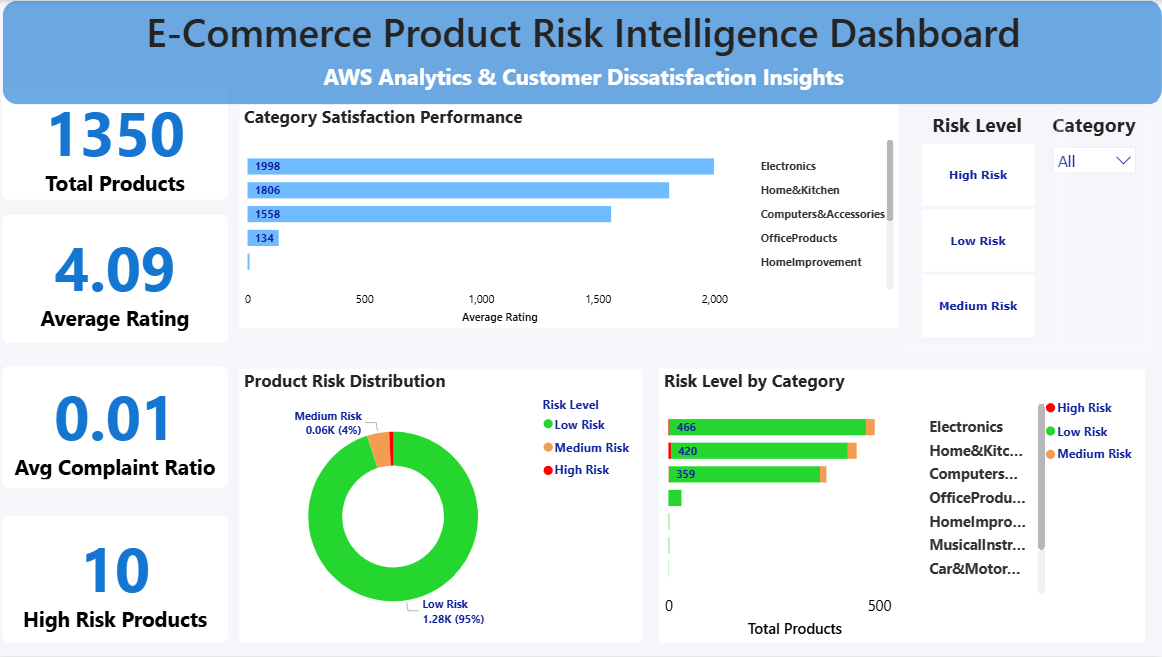

This screenshot's page, from the dashboard's own definition file:
{"tool":"powerbi","page":{"name":"Pure Insights","canvas":[1280,720],"ordinal":0},"visuals":[{"type":"card","fields":{"Values":["Amazon_final_analysis.Total Products"]},"box":[5,96.7,248.3,123.3],"z":0},{"type":"textbox","title":"E-Commerce Product Risk Intelligence Dashboard","box":[5,0,1275,115],"z":1000},{"type":"card","fields":{"Values":["Amazon_final_analysis.High Risk Products"]},"box":[5,566.7,248.3,138.3],"z":2000},{"type":"card","fields":{"Values":["Amazon_final_analysis.Average Rating"]},"box":[5,236.7,248.3,140],"z":3000},{"type":"card","fields":{"Values":["Amazon_final_analysis.Avg Complaint Ratio"]},"box":[5,401.7,248.3,133.3],"z":4000},{"type":"donutChart","title":"Product Risk Distribution","fields":{"Category":["Amazon_final_analysis.risk_level"],"Y":["CountNonNull(Amazon_final_analysis.product_id)"]},"box":[266.7,405,441.7,300],"z":5000},{"type":"barChart","title":"Risk Level by Category","fields":{"Category":["Amazon_final_analysis.category"],"Y":["CountNonNull(Amazon_final_analysis.product_id)"],"Series":["Amazon_final_analysis.risk_level"]},"box":[727.3,404.8,532.4,300.5],"z":6000},{"type":"clusteredBarChart","title":"Category Satisfaction Performance","fields":{"Category":["Amazon_final_analysis.category"],"Y":["Sum(Amazon_final_analysis.avg_rating)"]},"box":[266.7,115,723.3,245],"z":7000},{"type":"slicer","title":"Category","fields":{"Values":["Amazon_final_analysis.category"]},"box":[1148.3,121.7,111.7,255],"z":8000},{"type":"slicer","title":"Risk Level","fields":{"Values":["Amazon_final_analysis.risk_level"]},"box":[990,121.7,173.3,255],"z":9000}]}

Visuals, with their boxes in screenshot pixels (x1, y1, x2, y2), scaled from the page's 1280x720 canvas onto the 1162x657 screenshot:
card - Amazon_final_analysis.Total Products: locate(5, 88, 230, 201)
"E-Commerce Product Risk Intelligence Dashboard" textbox: locate(5, 0, 1161, 105)
card - Amazon_final_analysis.High Risk Products: locate(5, 517, 230, 643)
card - Amazon_final_analysis.Average Rating: locate(5, 216, 230, 344)
card - Amazon_final_analysis.Avg Complaint Ratio: locate(5, 367, 230, 488)
"Product Risk Distribution" donutChart: locate(242, 370, 643, 643)
"Risk Level by Category" barChart: locate(660, 369, 1144, 644)
"Category Satisfaction Performance" clusteredBarChart: locate(242, 105, 899, 328)
"Category" slicer: locate(1042, 111, 1144, 344)
"Risk Level" slicer: locate(899, 111, 1056, 344)
